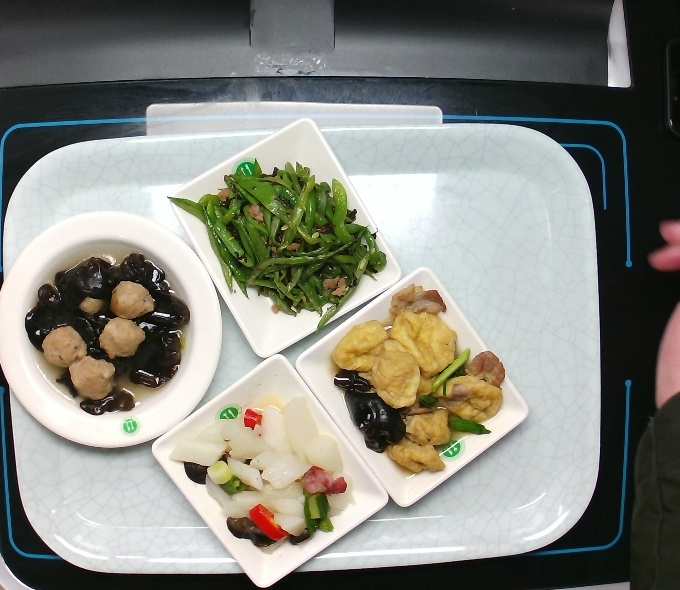wcq-MuErWanZi: (17, 239, 203, 421)
wcq-ShanYao: (168, 398, 350, 549)
wcq-SiJiDouChaoRou: (162, 158, 391, 329)
wcq-YouPaoRouPian: (327, 291, 508, 480)
